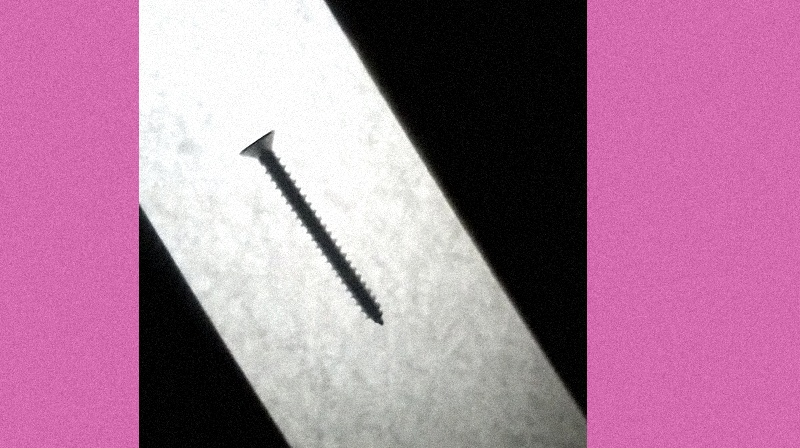S002: (235, 125, 384, 328)
